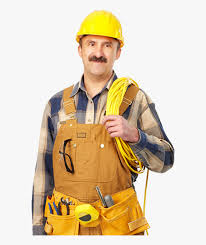Person_wearing_helmet: (71, 5, 129, 50)
